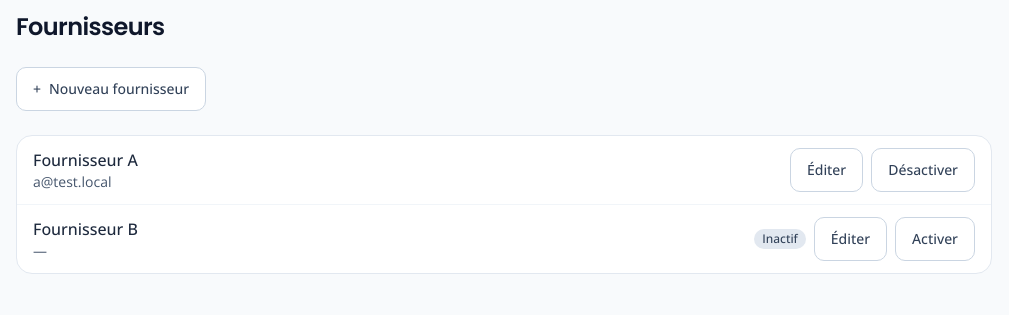
Test: SuppliersPage › pre-fills the edit form with the current values on each open
The image size is (1009, 315).
Expected: the text "Fournisseur A" is shown, x1=33 y1=148 x2=138 y2=172
Click the button "Éditer" in the row of "Fournisseur A" at (827, 170), box x1=790 y1=148 x2=863 y2=192
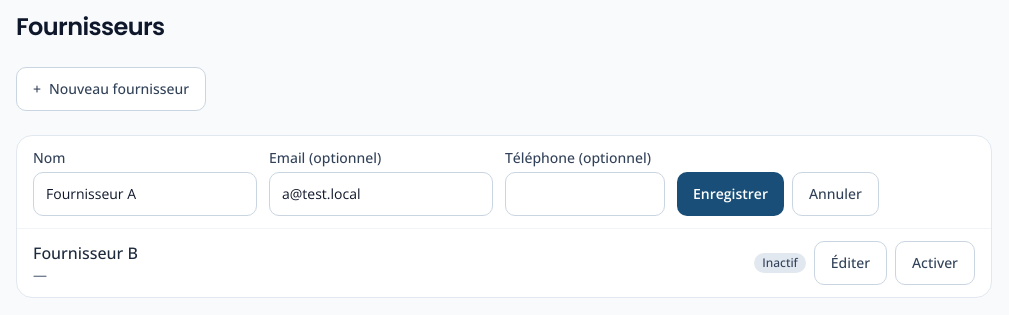
Now the field labelled "Nom" holds "Fournisseur A", box x1=33 y1=172 x2=257 y2=216
Click the button "Annuler" at (835, 194), box x1=792 y1=172 x2=879 y2=216
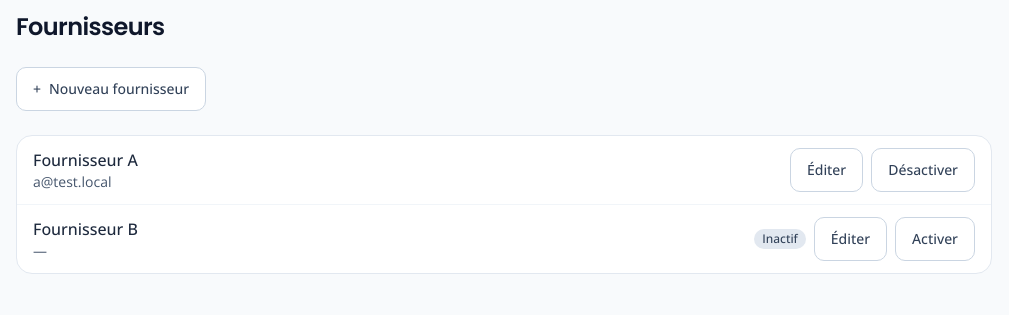
Click the button "Éditer" in the row of "Fournisseur A" at (827, 170), box x1=790 y1=148 x2=863 y2=192
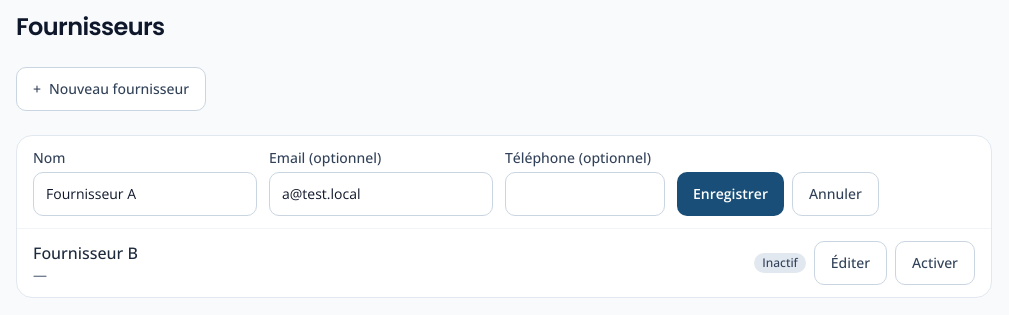
Now the field labelled "Nom" holds "Fournisseur A", box x1=33 y1=172 x2=257 y2=216
